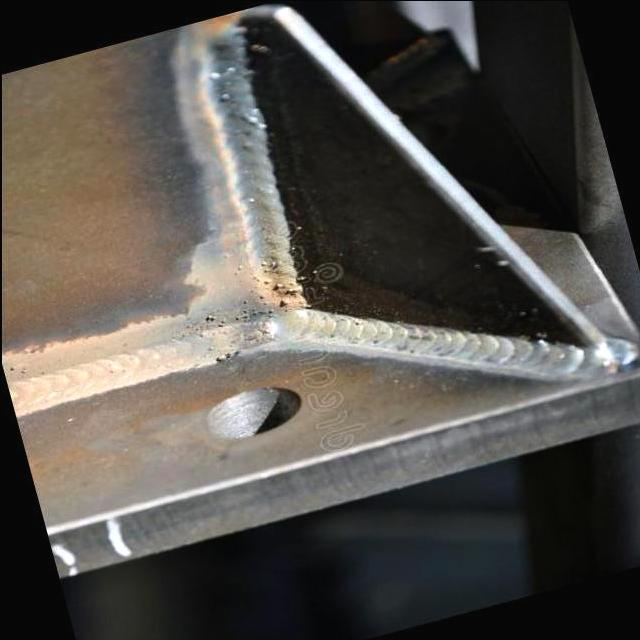defect: (229, 251, 299, 325), (205, 346, 246, 365), (199, 310, 229, 328)
